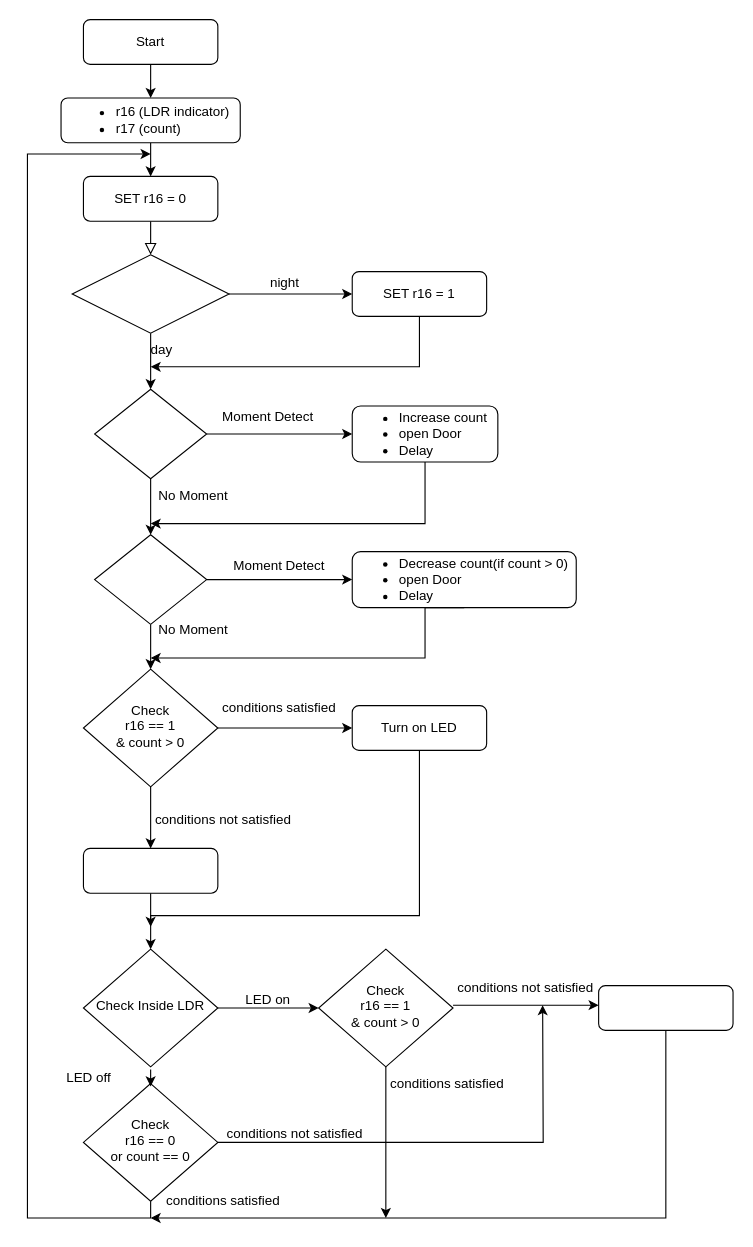
This 753x1247 diagram has some shape labels left out. Each missing label, with the centre of its shape:
Check Inside IR: point 150,579
Check Outside IR: point 150,433
Check Outside LDR: point 150,293
Turn off LED: point 150,870
Turn on Buzzer: point 665,1007
